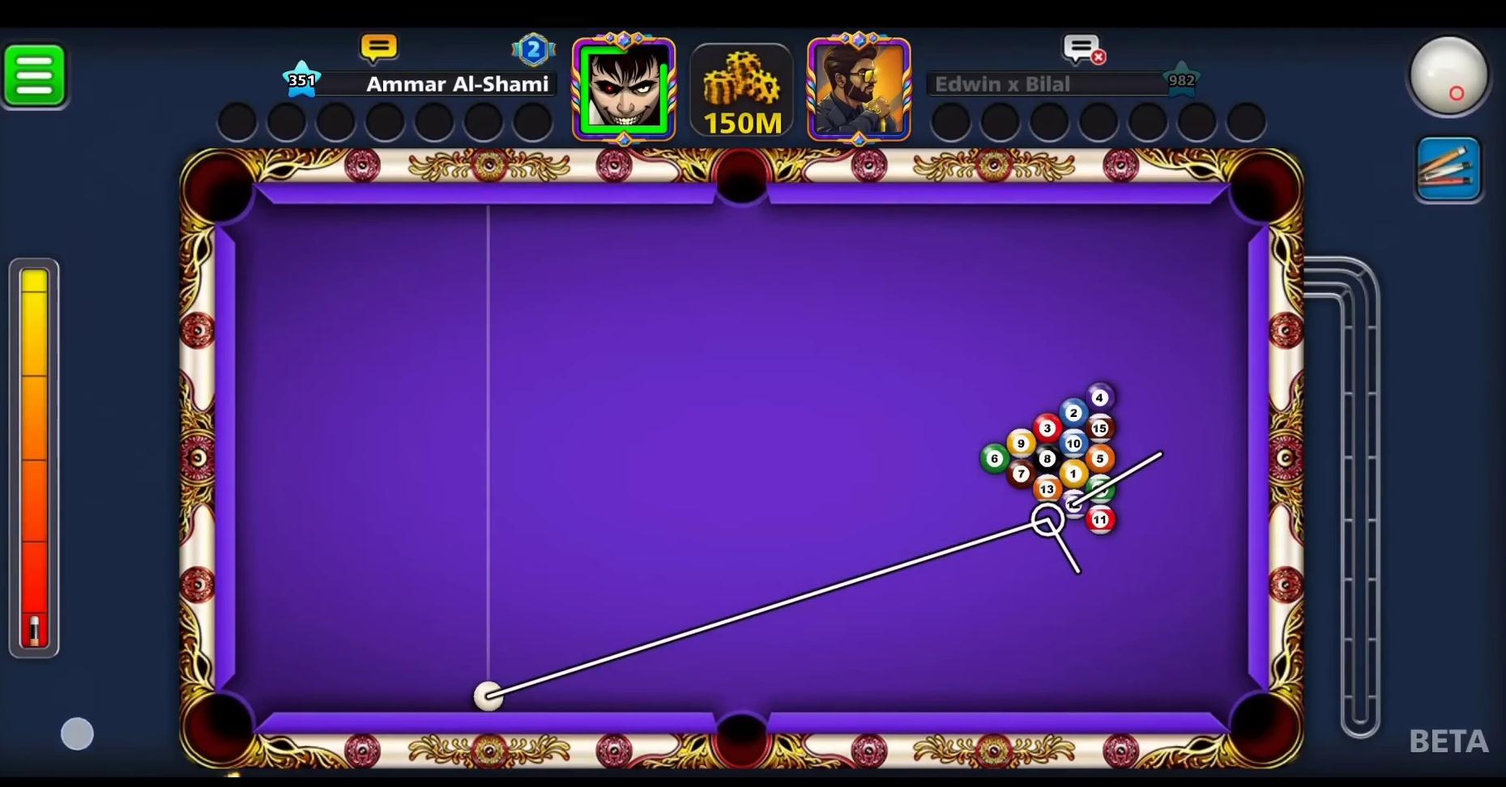Ball: (977, 439, 1012, 478), (1084, 502, 1118, 536), (1031, 441, 1064, 476), (1081, 442, 1117, 474), (1059, 427, 1091, 460), (1057, 458, 1090, 489), (1032, 473, 1061, 507), (1059, 489, 1088, 523), (1006, 425, 1034, 459), (1085, 472, 1114, 504), (1060, 397, 1089, 428), (1034, 413, 1063, 444), (1005, 457, 1034, 487), (1086, 382, 1114, 412), (1087, 412, 1116, 440)
Force: (3, 253, 78, 670)
Guideline: (486, 445, 1172, 704)
Hole: (1215, 134, 1308, 253), (169, 140, 277, 238), (166, 685, 288, 767), (1219, 677, 1303, 771), (696, 698, 791, 774), (709, 135, 785, 223)
Play_Area: (237, 204, 1248, 712)
Spin: (1399, 22, 1498, 134)
White: (465, 674, 508, 718)
